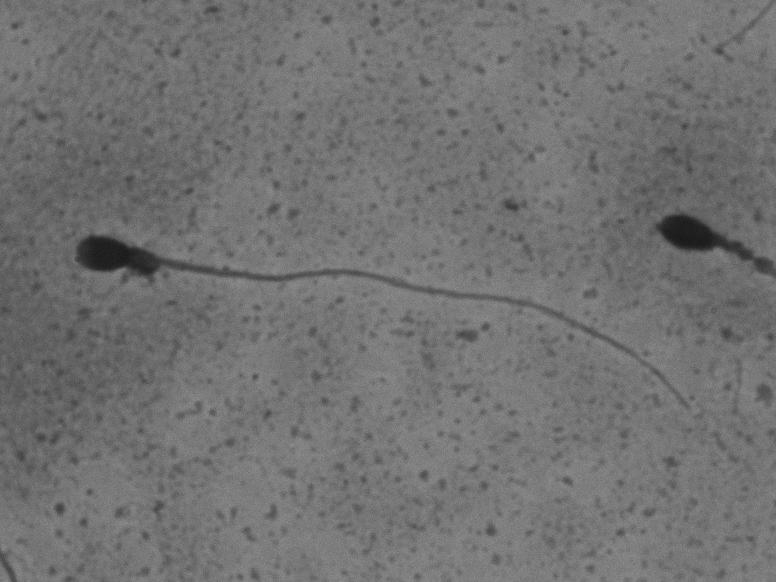Abnormal: (44, 223, 647, 382)
